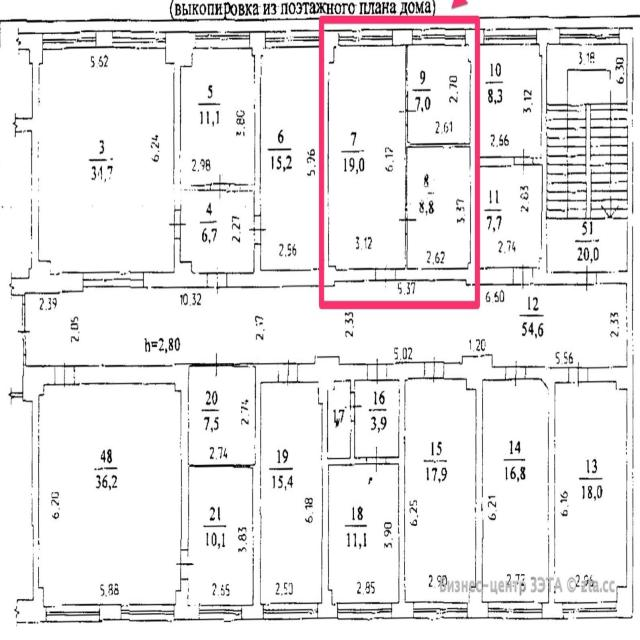Corridors: (26, 282, 626, 366), (477, 169, 540, 266)
Doors: (424, 352, 445, 387), (278, 356, 298, 390), (17, 306, 31, 354), (207, 265, 227, 298), (576, 264, 597, 295), (505, 359, 527, 388), (175, 550, 195, 581), (55, 361, 75, 392), (207, 349, 228, 378), (167, 210, 188, 239), (514, 261, 534, 291), (568, 359, 588, 389), (398, 203, 417, 234), (367, 357, 387, 386), (514, 146, 533, 175), (398, 97, 417, 125), (367, 447, 386, 475), (344, 392, 362, 421), (210, 173, 229, 200), (249, 216, 266, 245), (375, 264, 395, 283), (233, 463, 250, 469)
LBwalls: (74, 361, 189, 550), (227, 264, 376, 288), (297, 355, 367, 405), (395, 261, 514, 287), (9, 259, 84, 298), (444, 353, 505, 391), (144, 259, 208, 289), (12, 586, 46, 625), (533, 256, 577, 286), (22, 364, 56, 402), (165, 29, 195, 67), (13, 31, 44, 66), (174, 579, 199, 621), (587, 366, 628, 390), (526, 366, 569, 388), (319, 30, 339, 66), (467, 586, 488, 620), (537, 27, 560, 57), (386, 363, 425, 380), (617, 584, 634, 619), (318, 588, 337, 619), (255, 363, 278, 384), (596, 270, 626, 284), (250, 30, 265, 57), (100, 603, 121, 621), (391, 602, 413, 619), (542, 602, 562, 620), (393, 29, 412, 47), (242, 604, 263, 620), (96, 30, 113, 48), (466, 29, 484, 45), (619, 26, 634, 45)
Offices: (39, 384, 180, 605), (39, 50, 174, 273), (329, 47, 404, 269), (555, 383, 626, 602), (406, 380, 476, 600), (483, 380, 548, 602), (262, 49, 324, 268), (262, 384, 321, 603), (181, 49, 254, 181), (329, 466, 398, 602), (189, 468, 252, 605), (408, 150, 470, 268), (477, 45, 541, 156), (189, 368, 256, 463), (182, 192, 254, 272), (410, 47, 470, 140), (356, 381, 398, 456), (328, 384, 350, 457)
Stairs: (547, 44, 627, 271)
Walls: (405, 46, 515, 261), (322, 403, 367, 589), (11, 65, 41, 258), (229, 56, 262, 216), (174, 66, 210, 210), (626, 44, 634, 585), (386, 380, 405, 602), (533, 57, 548, 256), (251, 383, 261, 603), (548, 389, 555, 602), (31, 402, 39, 584), (476, 389, 483, 586), (324, 68, 329, 264), (8, 385, 23, 406), (189, 463, 233, 468), (253, 244, 261, 271), (174, 238, 181, 261), (405, 47, 408, 96), (227, 363, 256, 367), (189, 362, 207, 367), (405, 234, 407, 269), (350, 381, 355, 392), (23, 355, 27, 366), (22, 296, 25, 306)
Windows: (558, 27, 620, 45), (46, 603, 101, 623), (413, 600, 467, 620), (195, 31, 250, 50), (263, 602, 318, 621), (112, 30, 166, 49), (121, 603, 174, 622), (338, 29, 393, 47), (42, 32, 97, 50), (337, 602, 392, 620), (83, 271, 144, 287), (488, 602, 542, 620), (483, 28, 536, 46), (562, 602, 617, 619), (412, 28, 466, 45), (265, 31, 319, 48), (199, 603, 241, 622)
